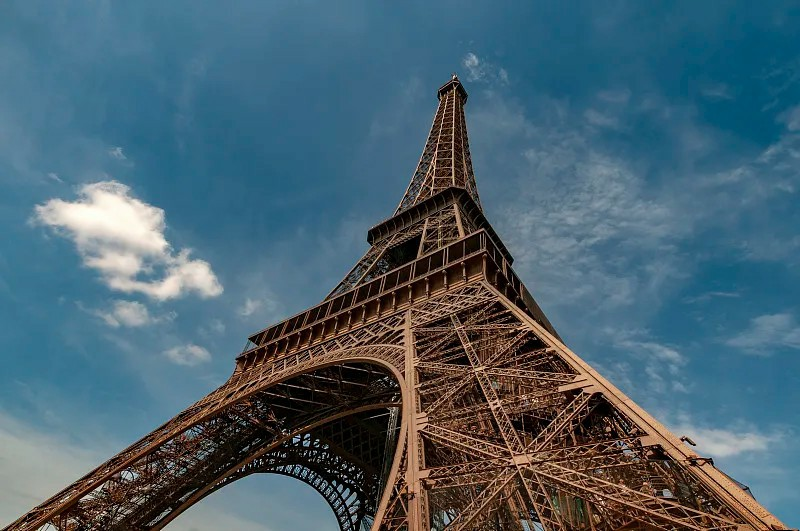Eiffel: (1, 73, 800, 531)
